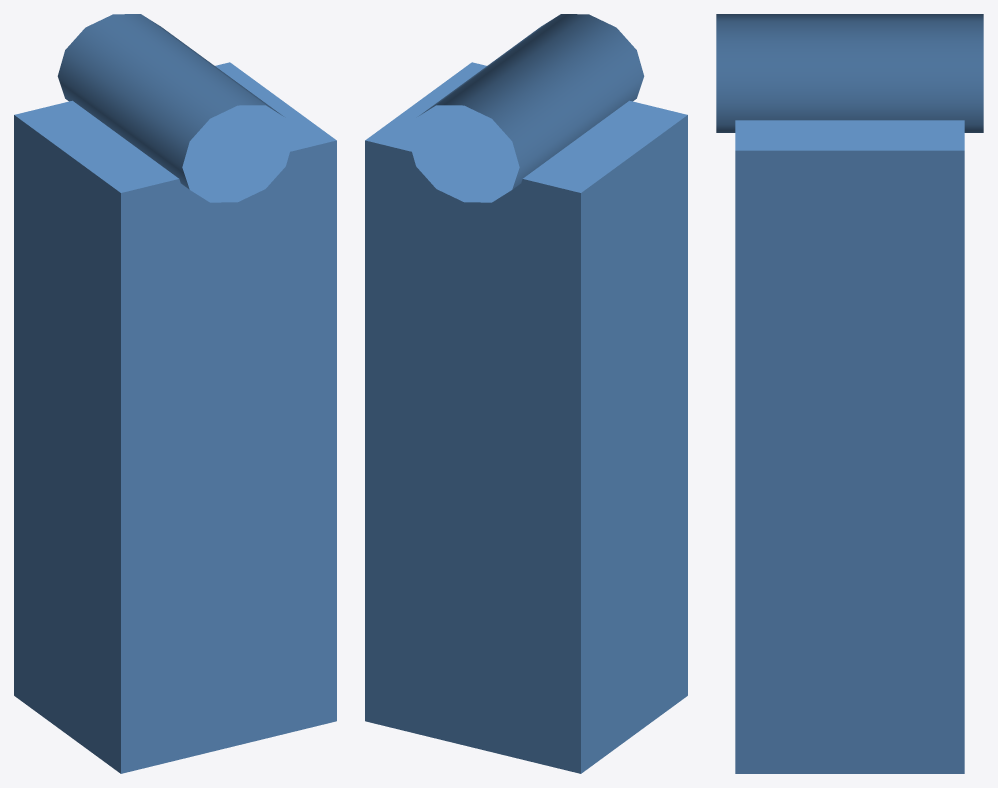
Rendered from env-mod-mailbox.glb.
3 views of the same model, side by side, from view 1: azimuth 30°, elevation 25°; view 2: azimuth 150°, elevation 25°; view 3: azimuth 270°, elevation 25° (orthographic). The views are drawn at different scales.
Bounding box in the file's own units: 0.35 × 1 × 0.35.
